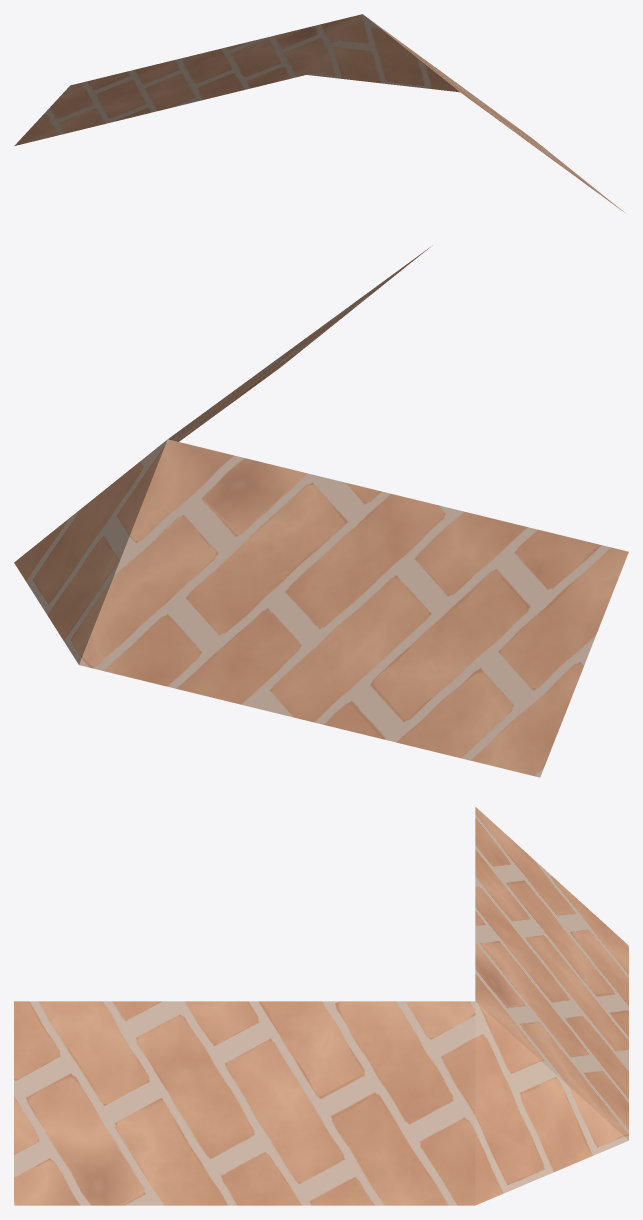
The model's file is Temp_Fold_Cor.fbx.
The picture shows the model from 3 angles, top to bottom: view 1: azimuth 30°, elevation 25°; view 2: azimuth 150°, elevation 25°; view 3: azimuth 270°, elevation 25°; orthographic projection. The views are drawn at different scales.
Parts seen in each view (by area): view 1: Temp_Fold_Cor; view 2: Temp_Fold_Cor; view 3: Temp_Fold_Cor.
Part boxes in pixels (left/top/right/bottom): Temp_Fold_Cor: left=14, top=14, right=625, bottom=213; Temp_Fold_Cor: left=14, top=245, right=628, bottom=777; Temp_Fold_Cor: left=14, top=807, right=628, bottom=1205.
Size of the model in its own units: 100 by 25 by 100.
1 material, 1 textured.
